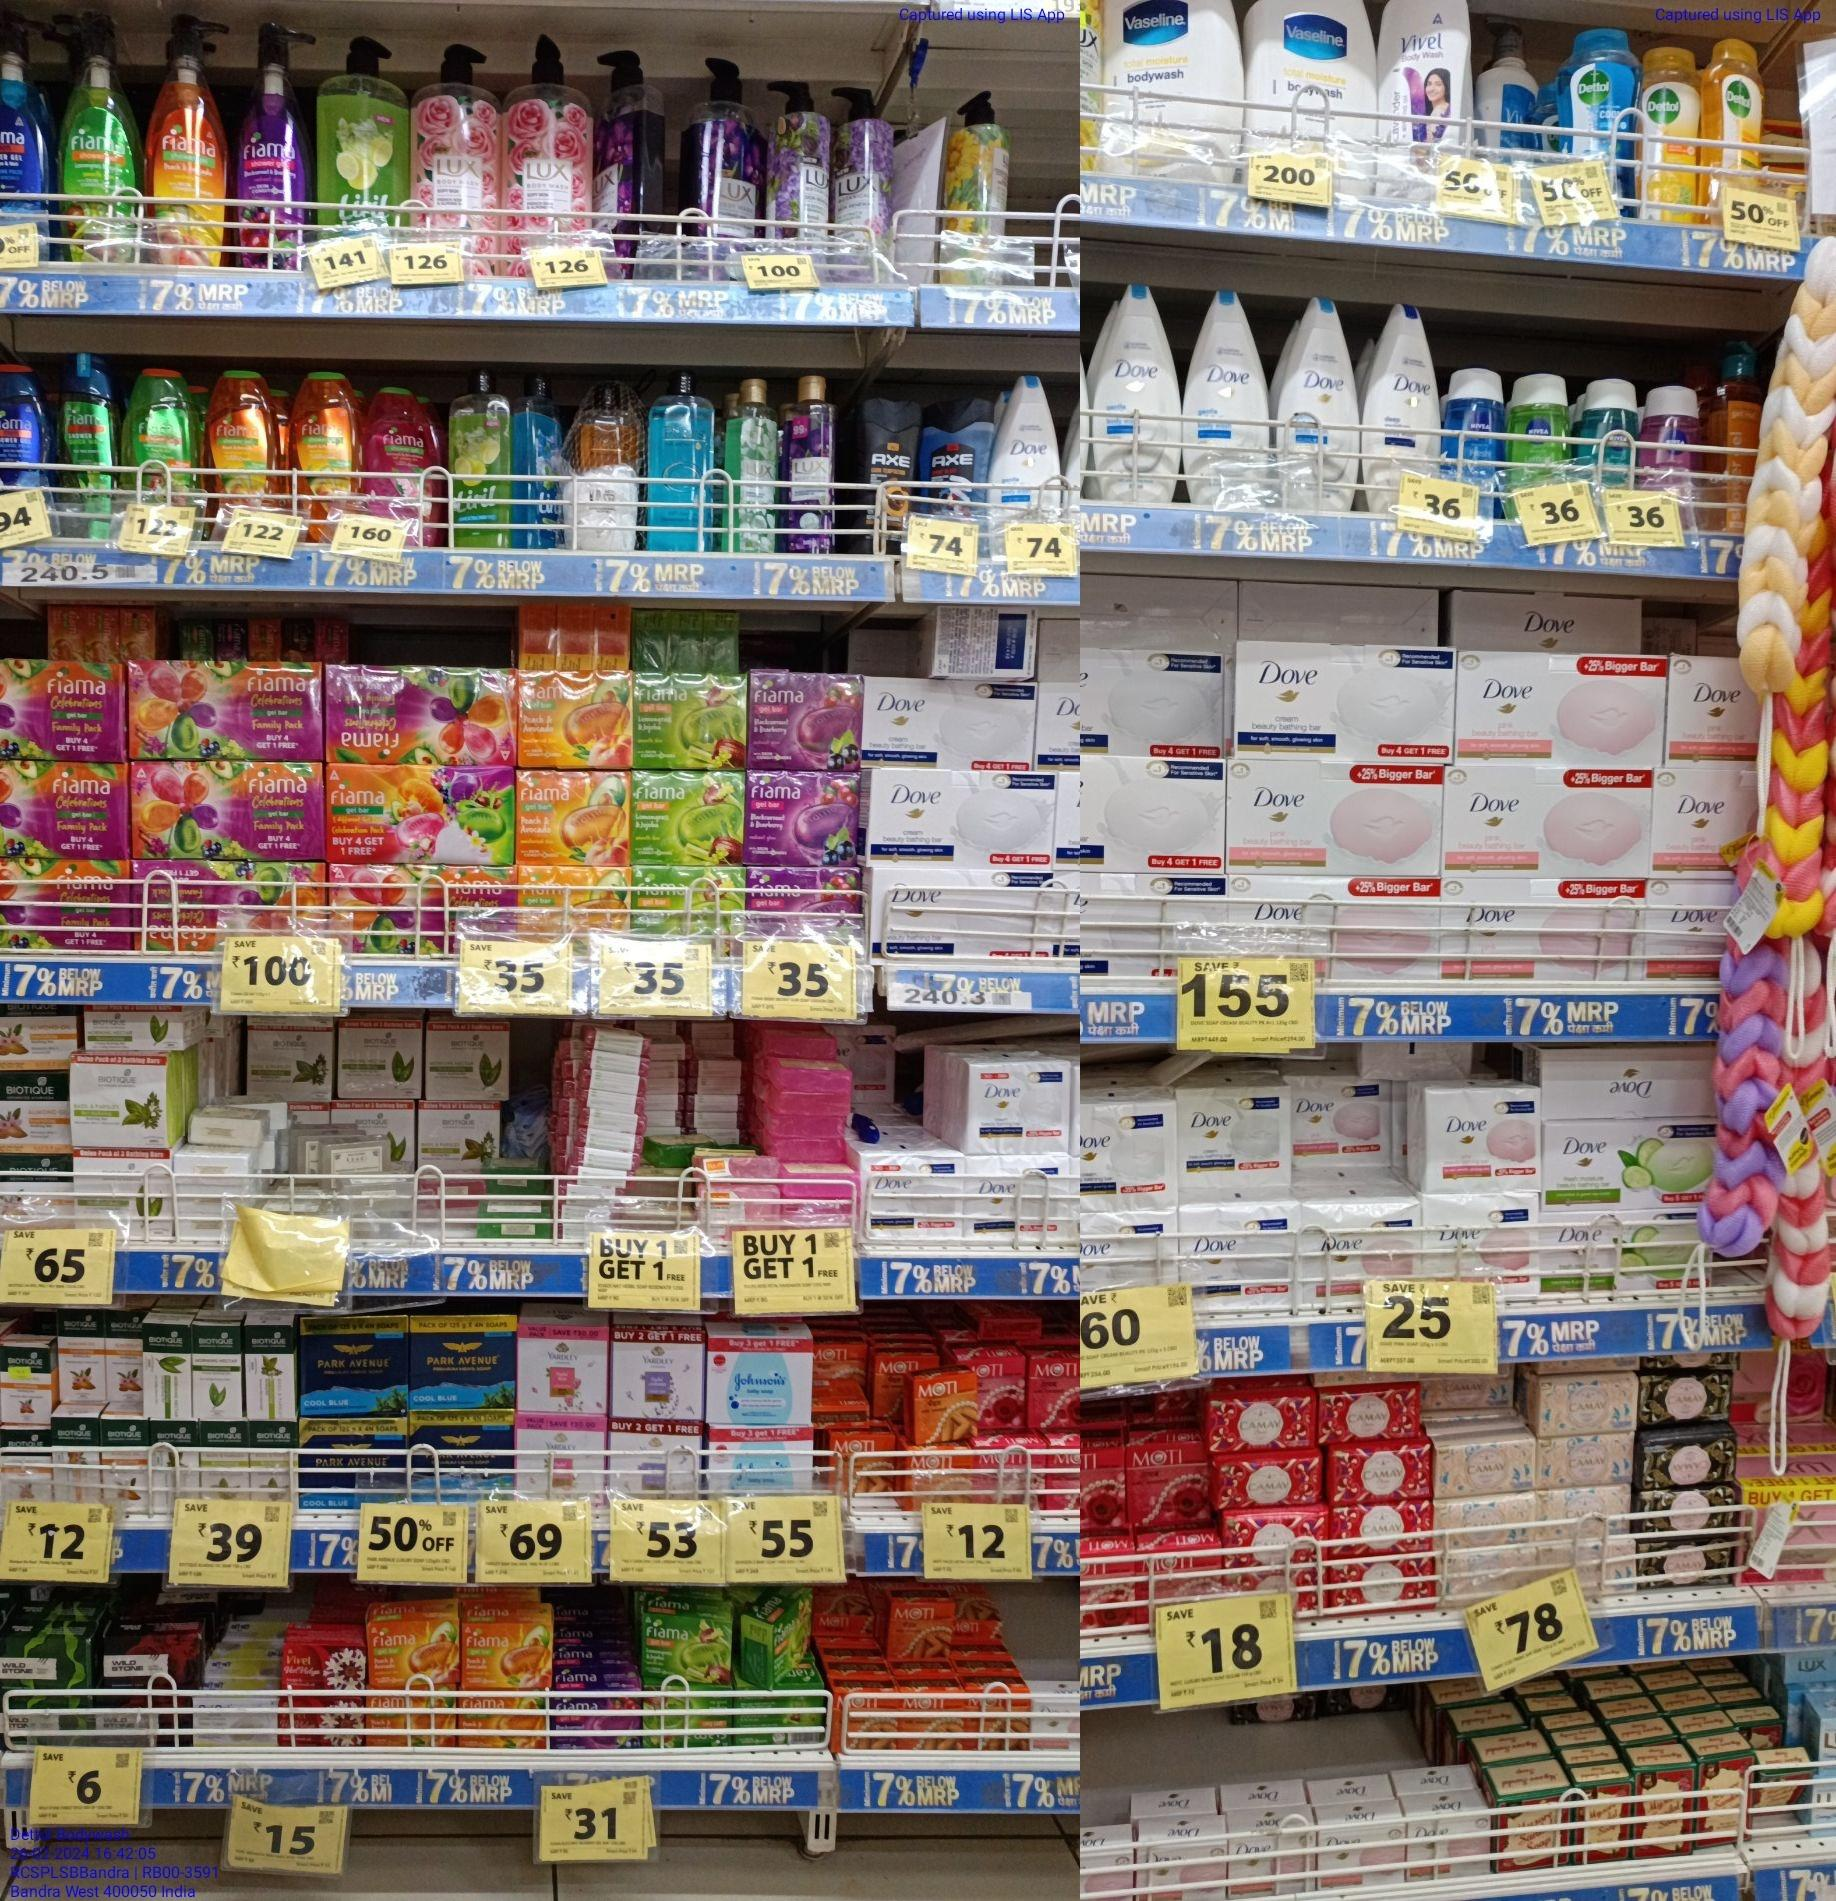Dove_Deep_Moisture_Body_Wash_250ML: (1369, 295, 1441, 507)
Dove_Gentle_Exfoliating_Body_Wash_250ML: (1096, 282, 1186, 504), (1283, 292, 1361, 513), (1193, 287, 1268, 507)
Fiama_Shower_Gel_Lemongrass_and_Jojoba_250ML: (124, 372, 199, 516)
Fiama_Shower_Gel_Patchouli_and_Macadamia_250ML: (365, 389, 436, 533)
Fiama_Shower_Gel_Peach_and_Avocado_250ML: (207, 363, 278, 519), (297, 375, 360, 528)
Liril_Lime_and_Tea_Tree_Oil_Body_Wash_250ML: (446, 375, 512, 552)
Lux_Black_Orchid_Scent_and_Juniper_Oil_Body_Wash_245ML: (791, 365, 838, 550)
Lux_Body_Wash_Skin_Detox_Freesia_Scent_and_Alove_Vera_245ML: (725, 375, 782, 550)
